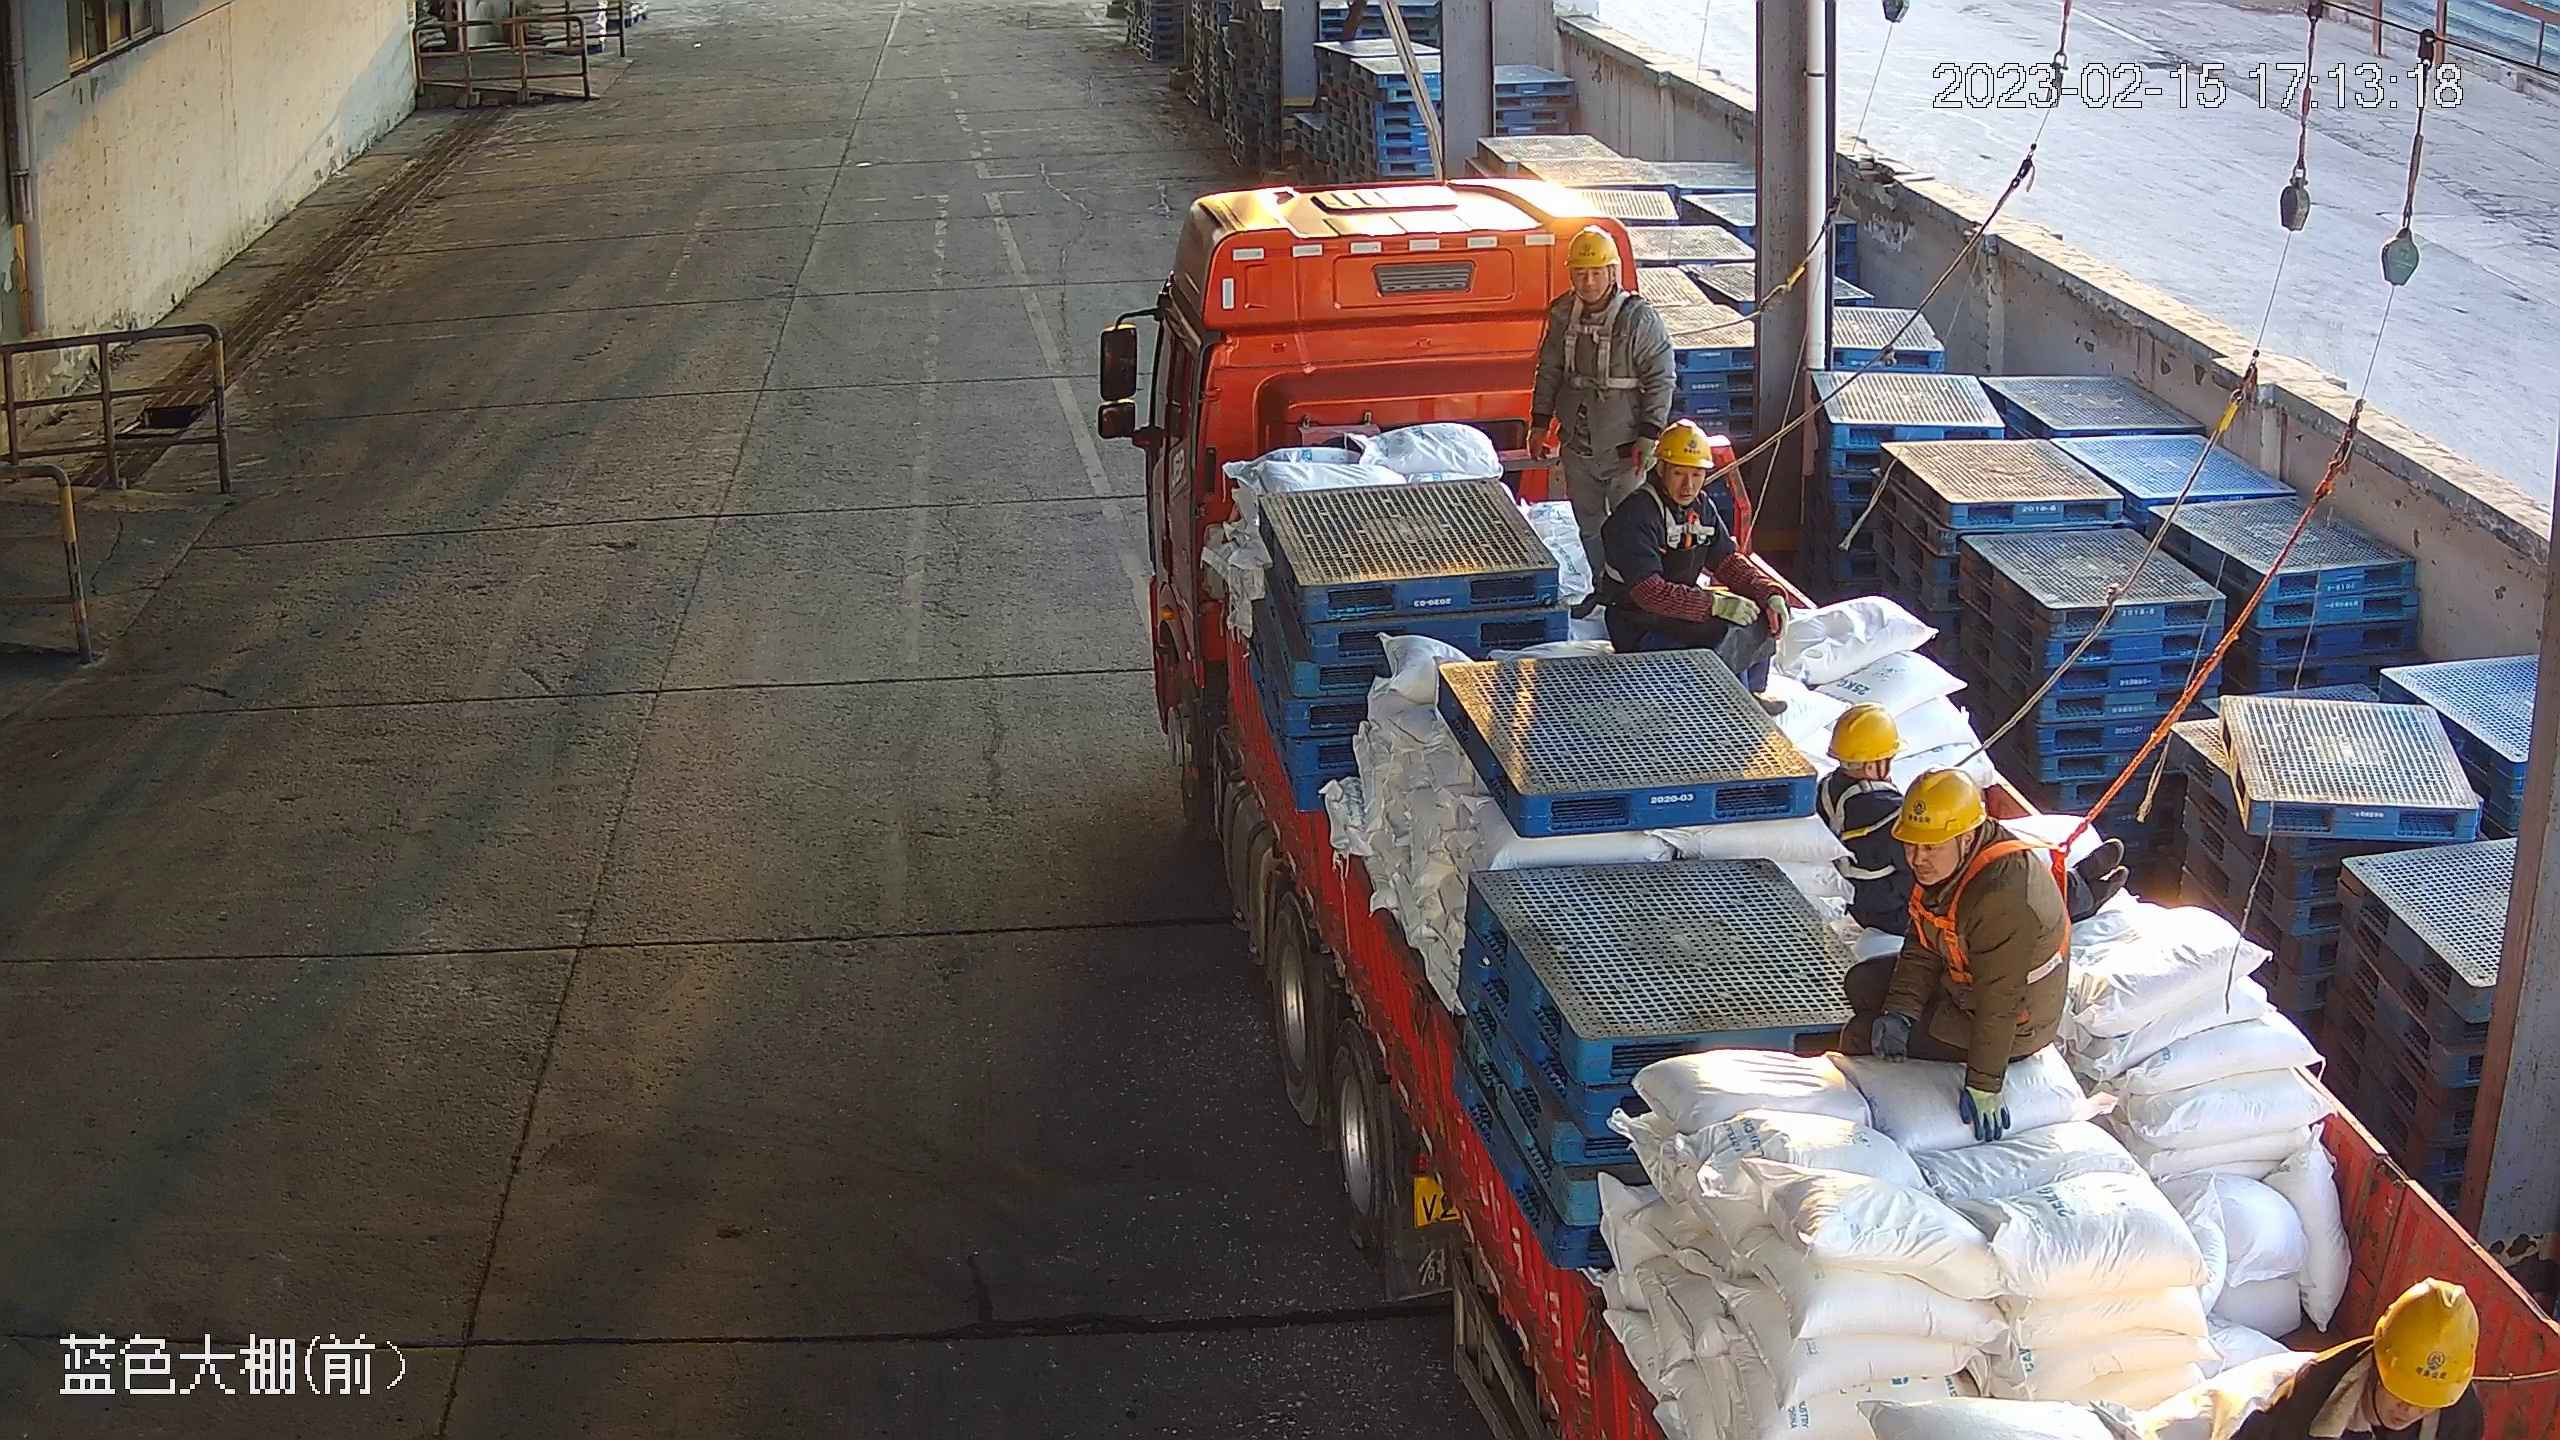belt: (1907, 817, 2077, 987), (1604, 481, 1715, 583), (1820, 773, 1902, 881), (1561, 289, 1647, 390)
head: (1893, 764, 2053, 931), (1543, 225, 1664, 349), (1606, 418, 1722, 541), (1818, 703, 1904, 827)
helmet: (2372, 1275, 2480, 1411), (1891, 765, 1988, 843), (1826, 704, 1907, 763), (1652, 419, 1715, 470), (1561, 225, 1622, 267)
people: (1839, 763, 2076, 1142), (1819, 703, 2129, 937), (1525, 227, 1678, 622), (1599, 418, 1790, 717)
truck: (1091, 179, 2560, 1440)
